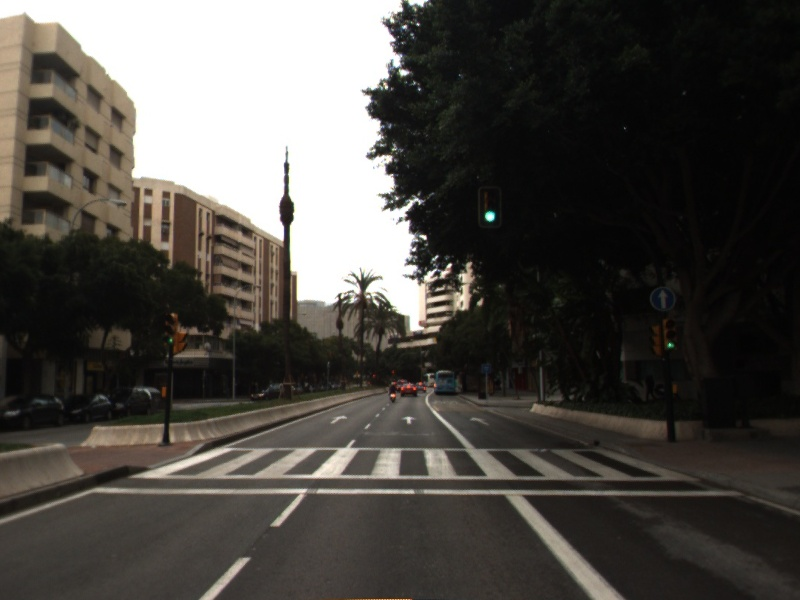STRAIGHT: (467, 415, 492, 428), (328, 413, 350, 426), (399, 414, 419, 426)
